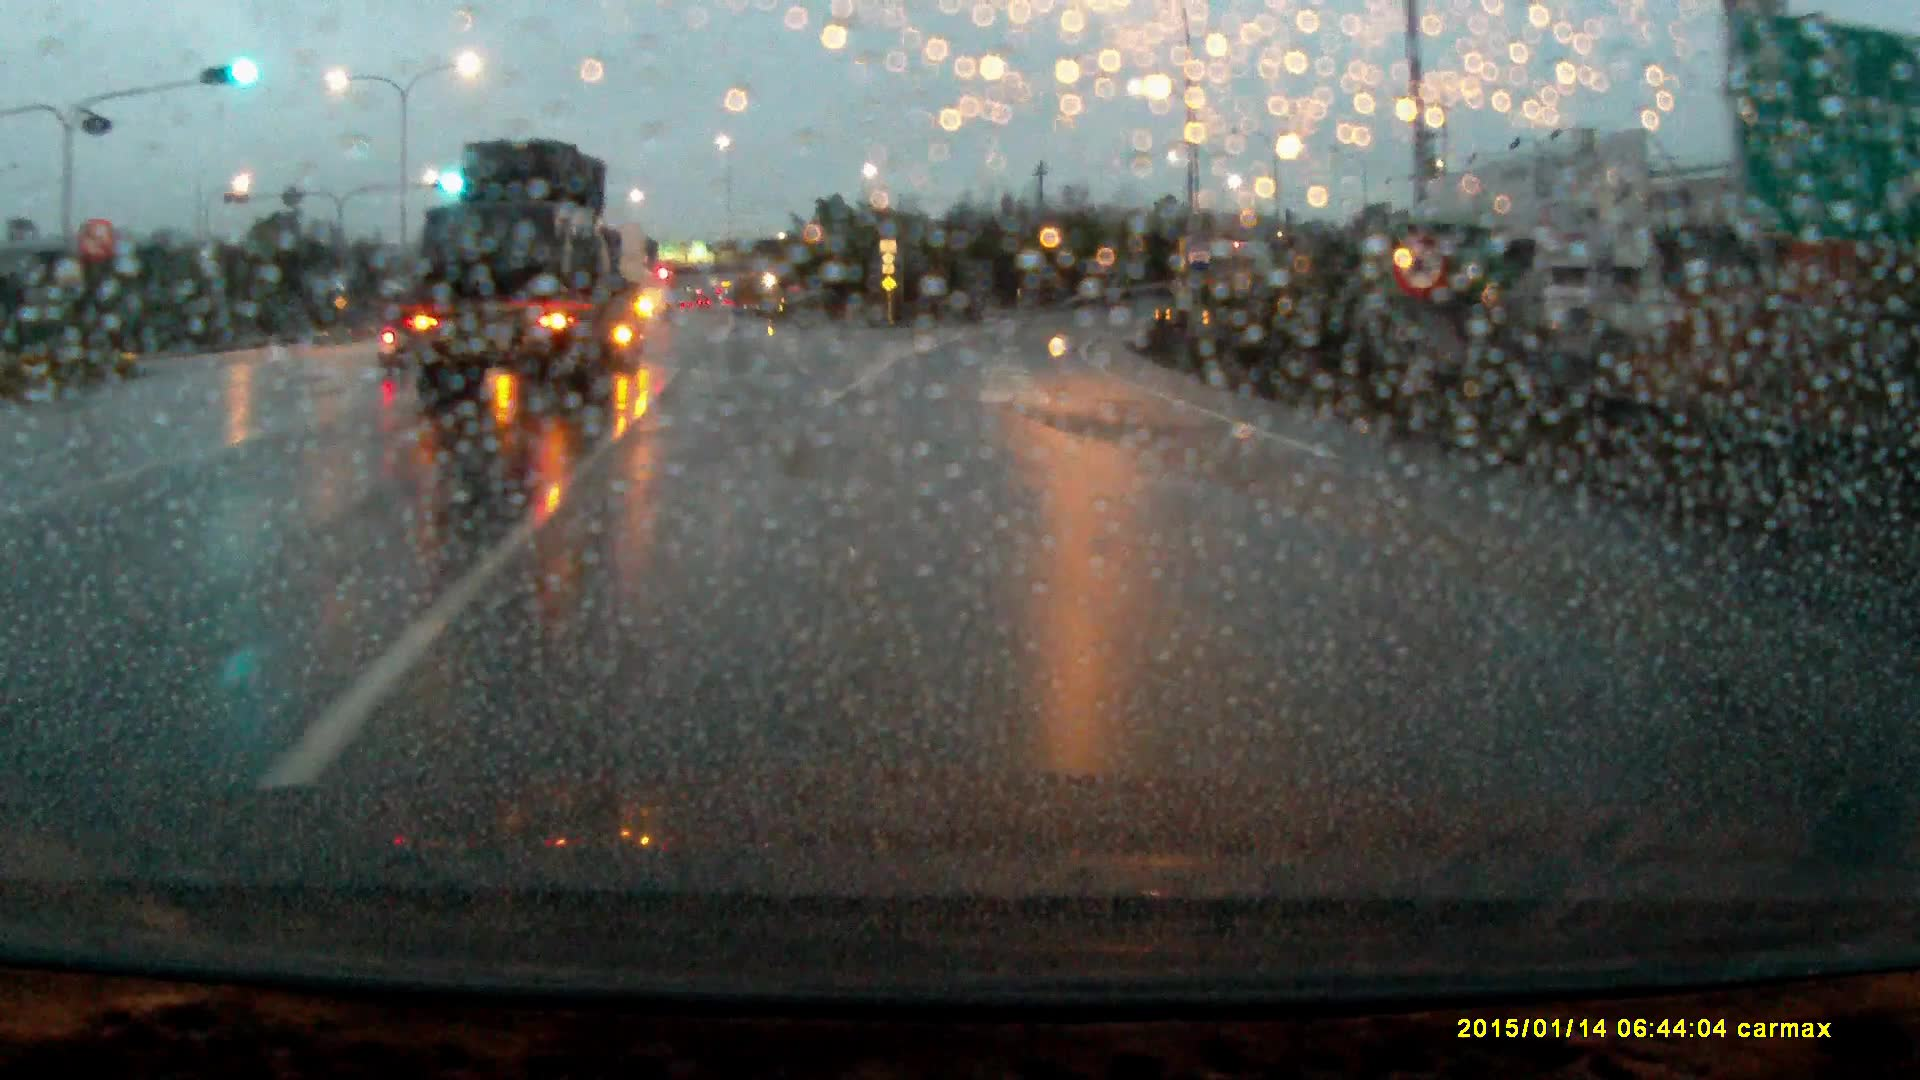rider: (373, 286, 423, 383)
vehicle: (406, 141, 649, 421)
